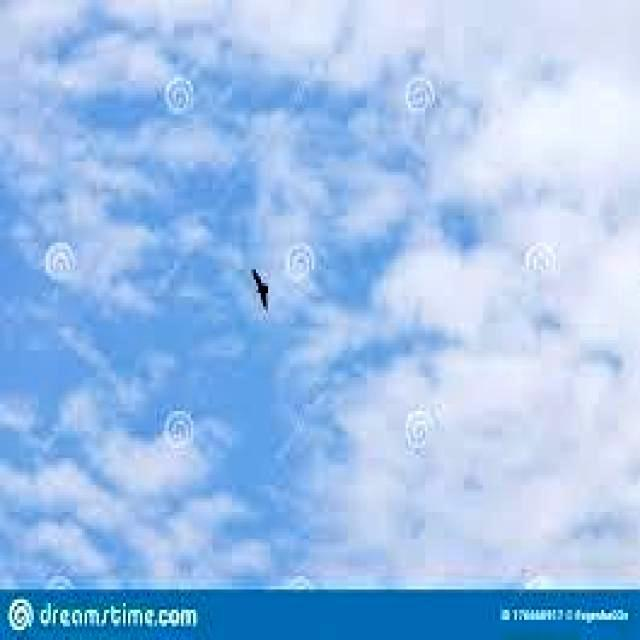bird: (243, 265, 271, 316)
